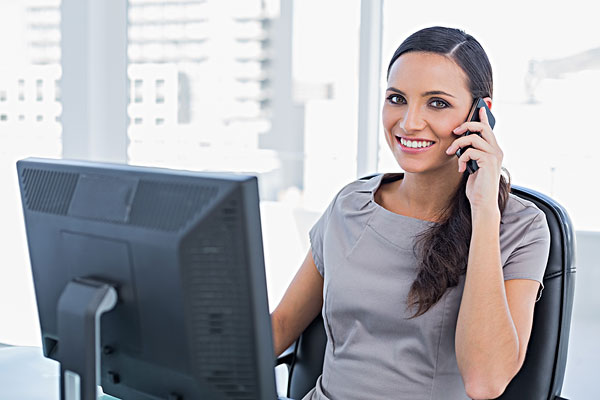phone: (445, 100, 504, 177)
talk: (380, 82, 505, 206)
